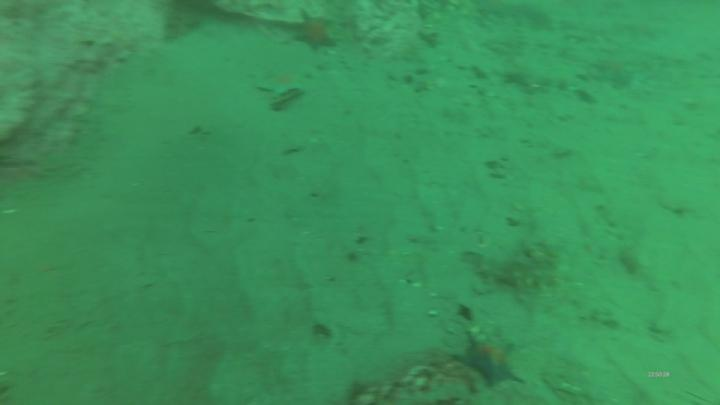holothurian: (475, 240, 565, 296)
starfish: (451, 330, 528, 395), (289, 7, 340, 54), (254, 69, 307, 100), (592, 52, 637, 88)
